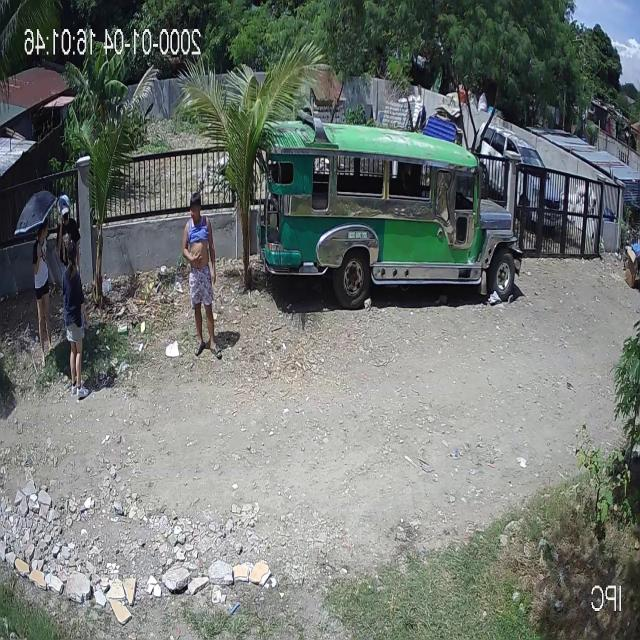standing: (178, 193, 224, 363), (54, 194, 86, 338), (62, 242, 90, 401), (28, 220, 56, 368)
